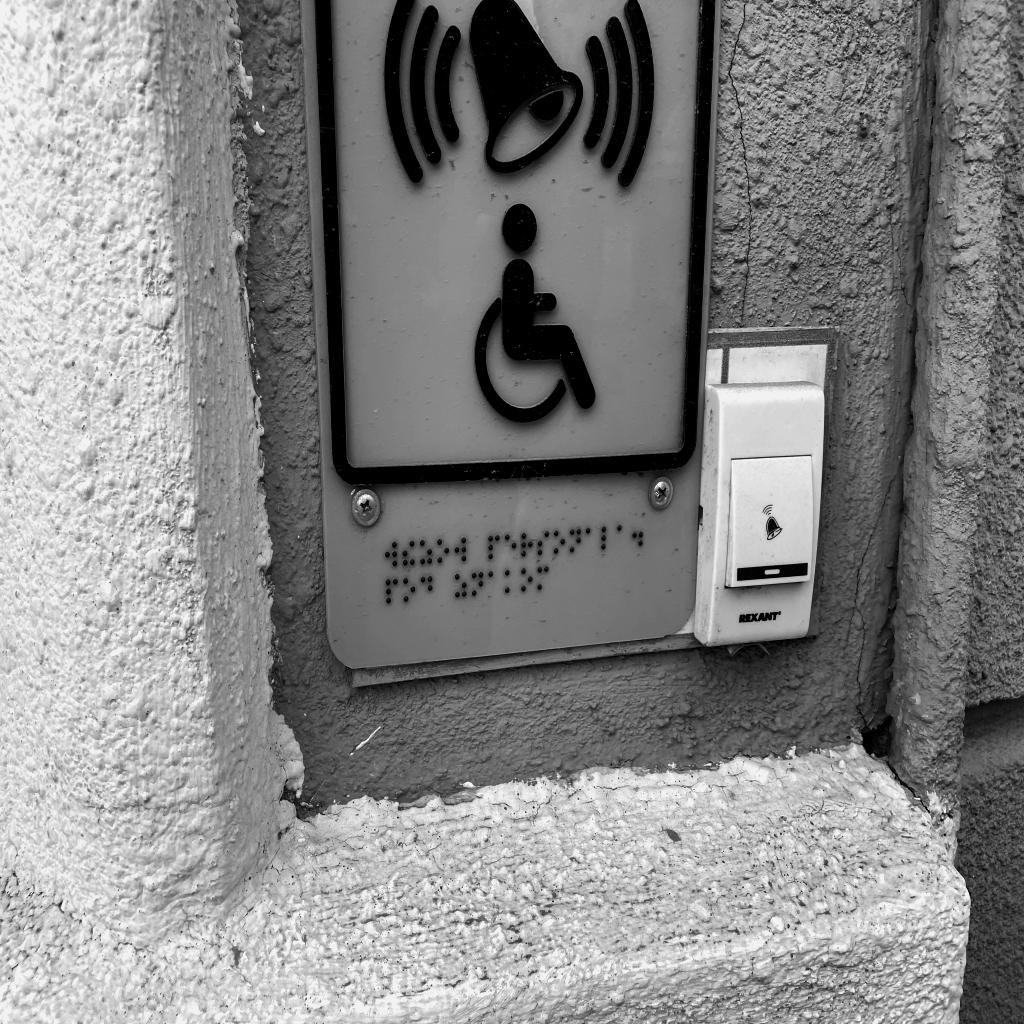_n: (471, 571, 484, 597), (570, 528, 582, 553)
a: (488, 571, 500, 596), (586, 527, 598, 551), (617, 525, 628, 549)
d: (420, 575, 433, 600)
e: (505, 533, 517, 559)
ii: (402, 540, 415, 566)
k: (505, 569, 517, 594)
l: (601, 526, 613, 550)
m: (537, 566, 549, 591)
o: (403, 577, 416, 603), (437, 539, 449, 564), (521, 568, 533, 592), (554, 530, 565, 554)
p: (385, 578, 398, 604), (488, 534, 500, 560)
r: (521, 532, 533, 557)
s: (538, 530, 550, 556)
tochka: (633, 524, 644, 546)
v: (385, 541, 398, 567), (454, 536, 467, 562)
z: (420, 539, 433, 565), (454, 574, 468, 598)
